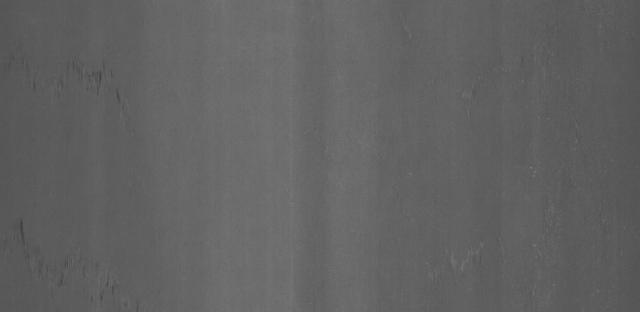silk_spot: (417, 230, 599, 294), (14, 225, 146, 309), (27, 41, 161, 120)
